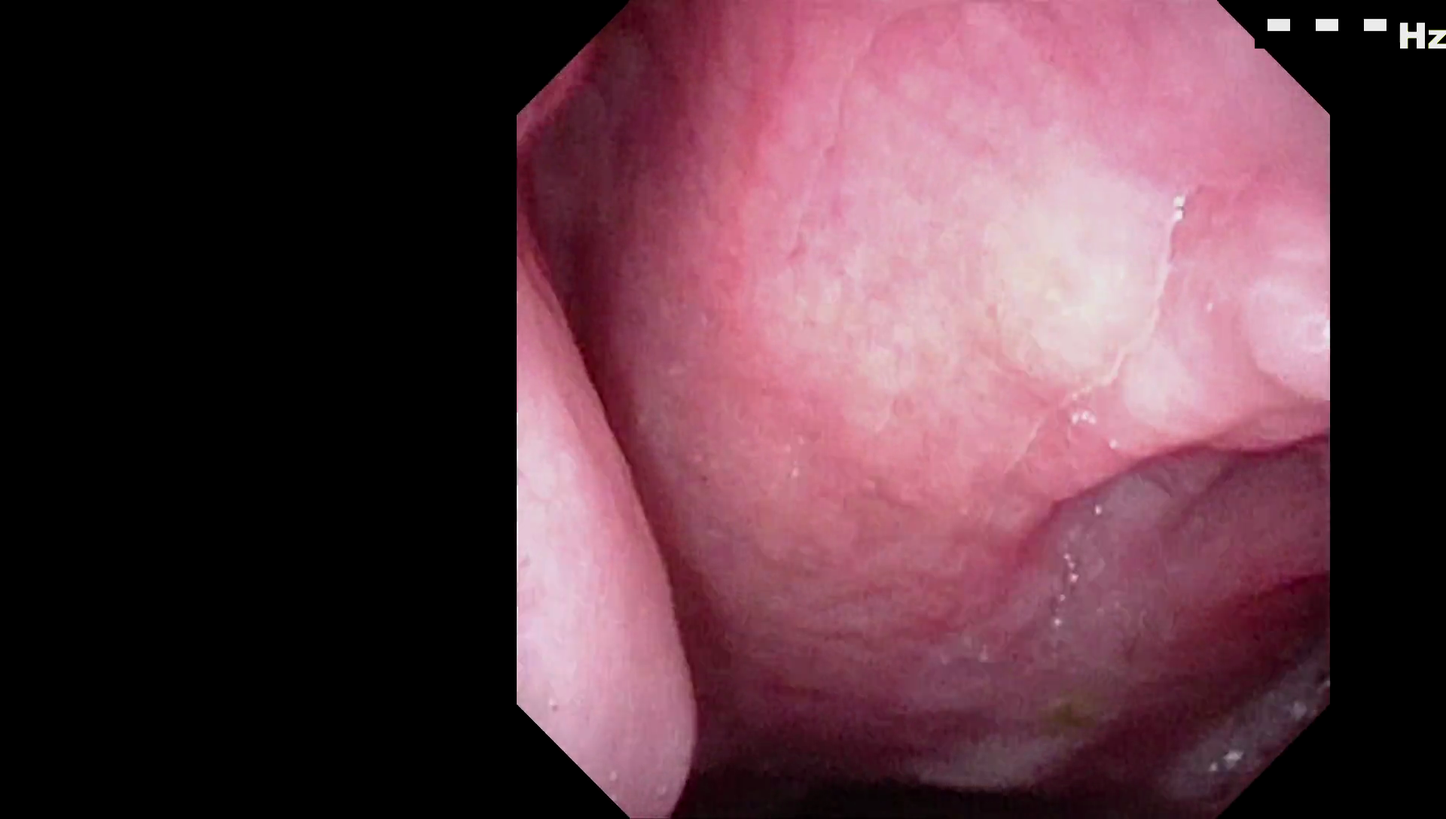close_wall: (761, 81, 1253, 486), (526, 209, 727, 805)
next: (682, 686, 1129, 819)
